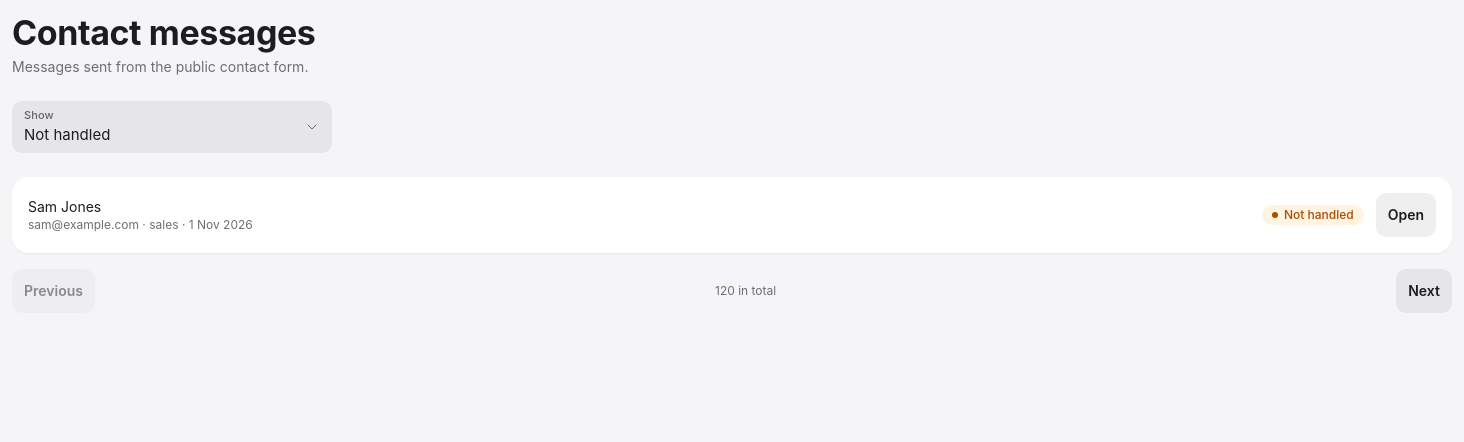
Scenario: ContactAdmin delayed update › keeps the second page visible when a delayed update resolves after paging
Click the button "Open".
click(1406, 215)  # box x1=1376 y1=193 x2=1436 y2=237
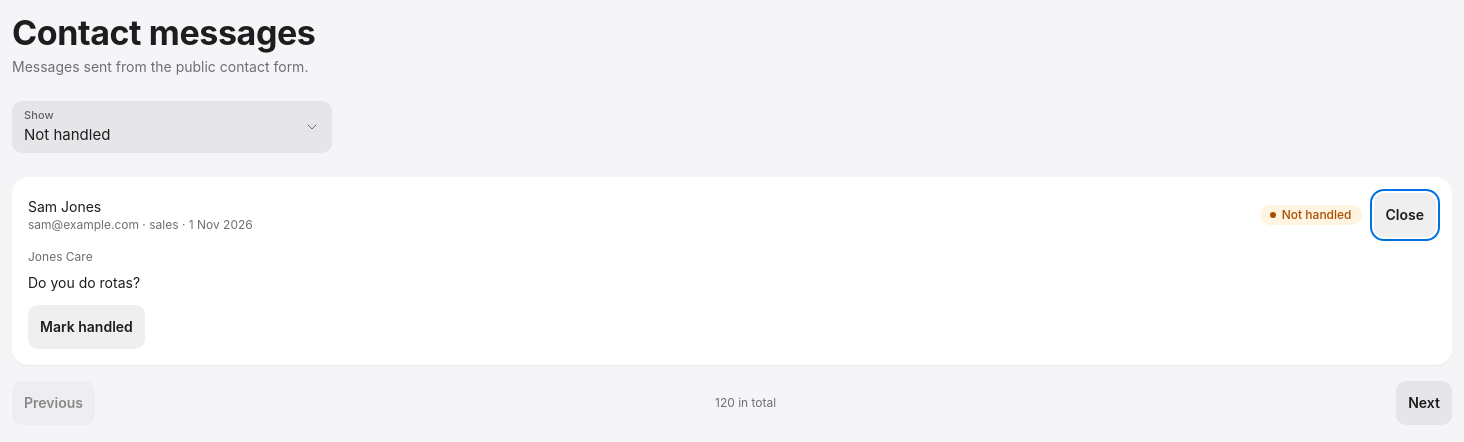
Click the button "Mark handled".
click(86, 327)  # box x1=28 y1=305 x2=145 y2=349
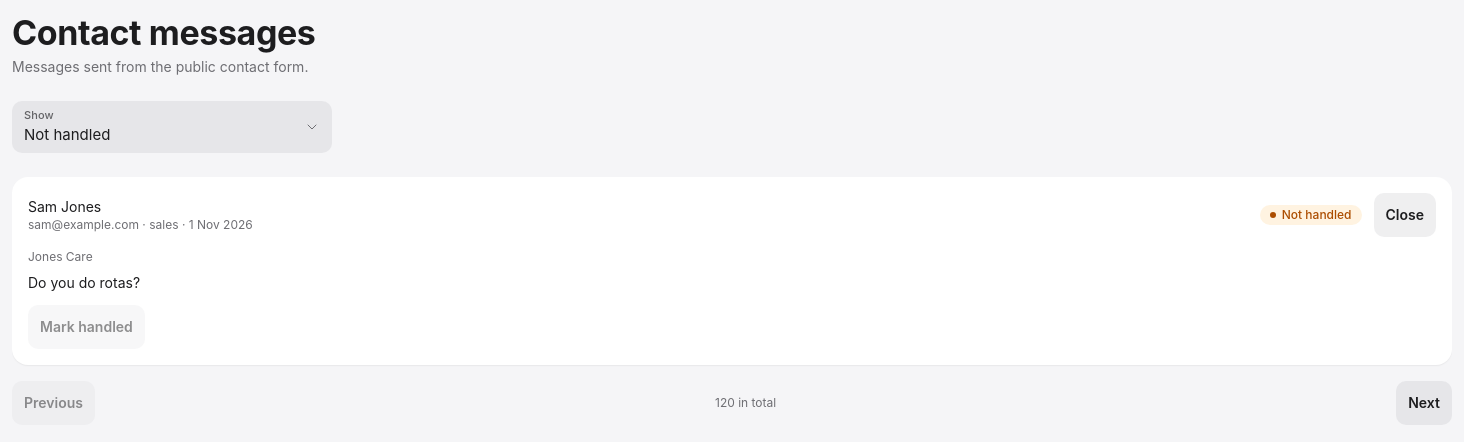
Click the button "Next".
click(1424, 403)  # box x1=1396 y1=381 x2=1452 y2=425
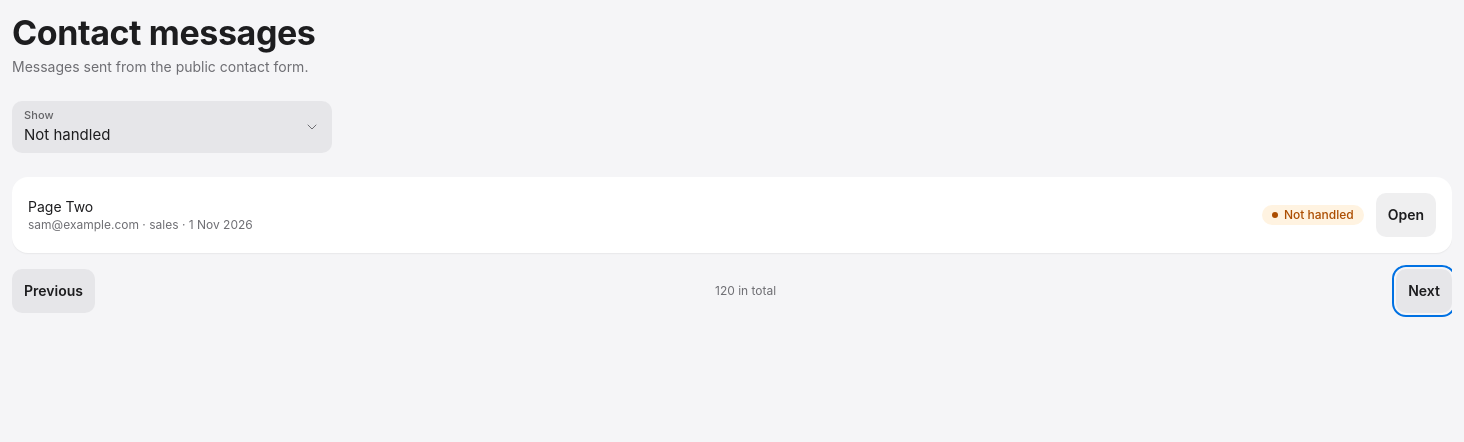
Now the text "Page Two" is shown, box x1=28 y1=198 x2=93 y2=215
